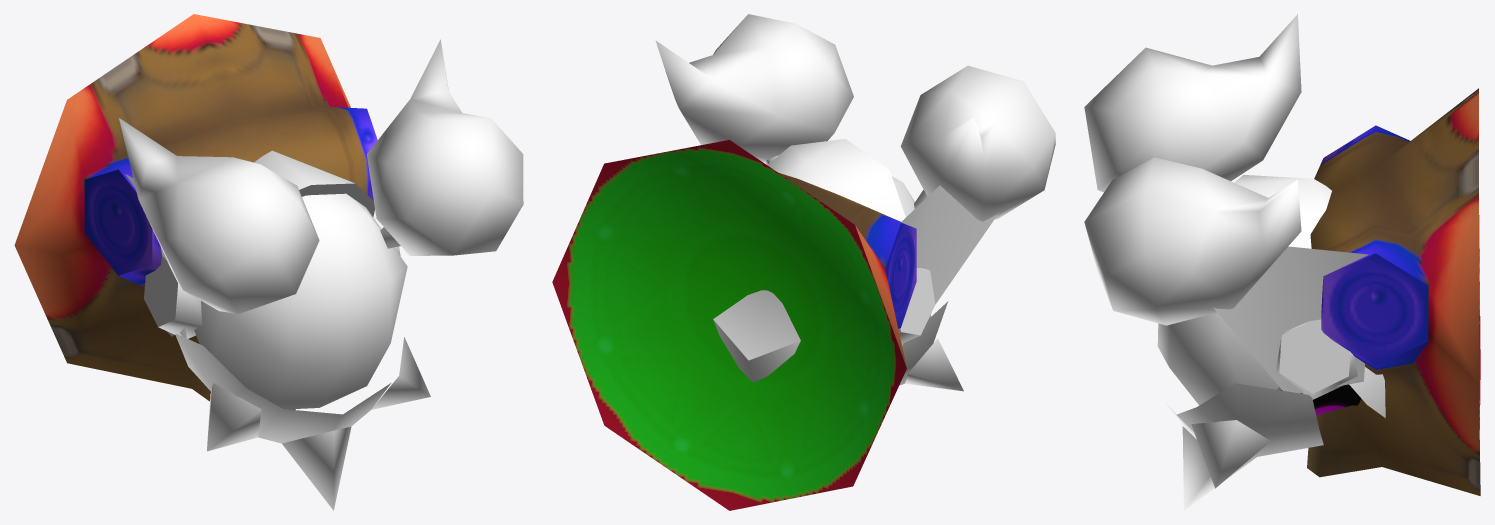
The model's file is model_cstm-mining.glb.
3 renders of one model, left to right at view 1: azimuth 30°, elevation 25°; view 2: azimuth 150°, elevation 25°; view 3: azimuth 270°, elevation 25°, orthographic. The views are drawn at different scales.
Parts seen in each view (by area): view 1: doubleploom.model_recolor-Mesh[0], hat_mining.model_recolor-MeshNodes["mesh_hat"]; view 2: hat_mining.model_recolor-MeshNodes["mesh_hat"], doubleploom.model_recolor-Mesh[0]; view 3: doubleploom.model_recolor-Mesh[0], hat_mining.model_recolor-MeshNodes["mesh_hat"], face.part_model_face-Mesh[0].
Boxes of the visible parts, x1,y1,x2,y2 form: doubleploom.model_recolor-Mesh[0]: (119,39,523,510); hat_mining.model_recolor-MeshNodes["mesh_hat"]: (14,14,377,409); hat_mining.model_recolor-MeshNodes["mesh_hat"]: (552,140,916,510); doubleploom.model_recolor-Mesh[0]: (655,14,1055,391); doubleploom.model_recolor-Mesh[0]: (1084,14,1385,510); hat_mining.model_recolor-MeshNodes["mesh_hat"]: (1307,88,1480,495); face.part_model_face-Mesh[0]: (1281,384,1361,415).
Size of the model in its own units: 0.7965 by 0.8373 by 0.7236.
Materials: 3 (2 with a texture image).
